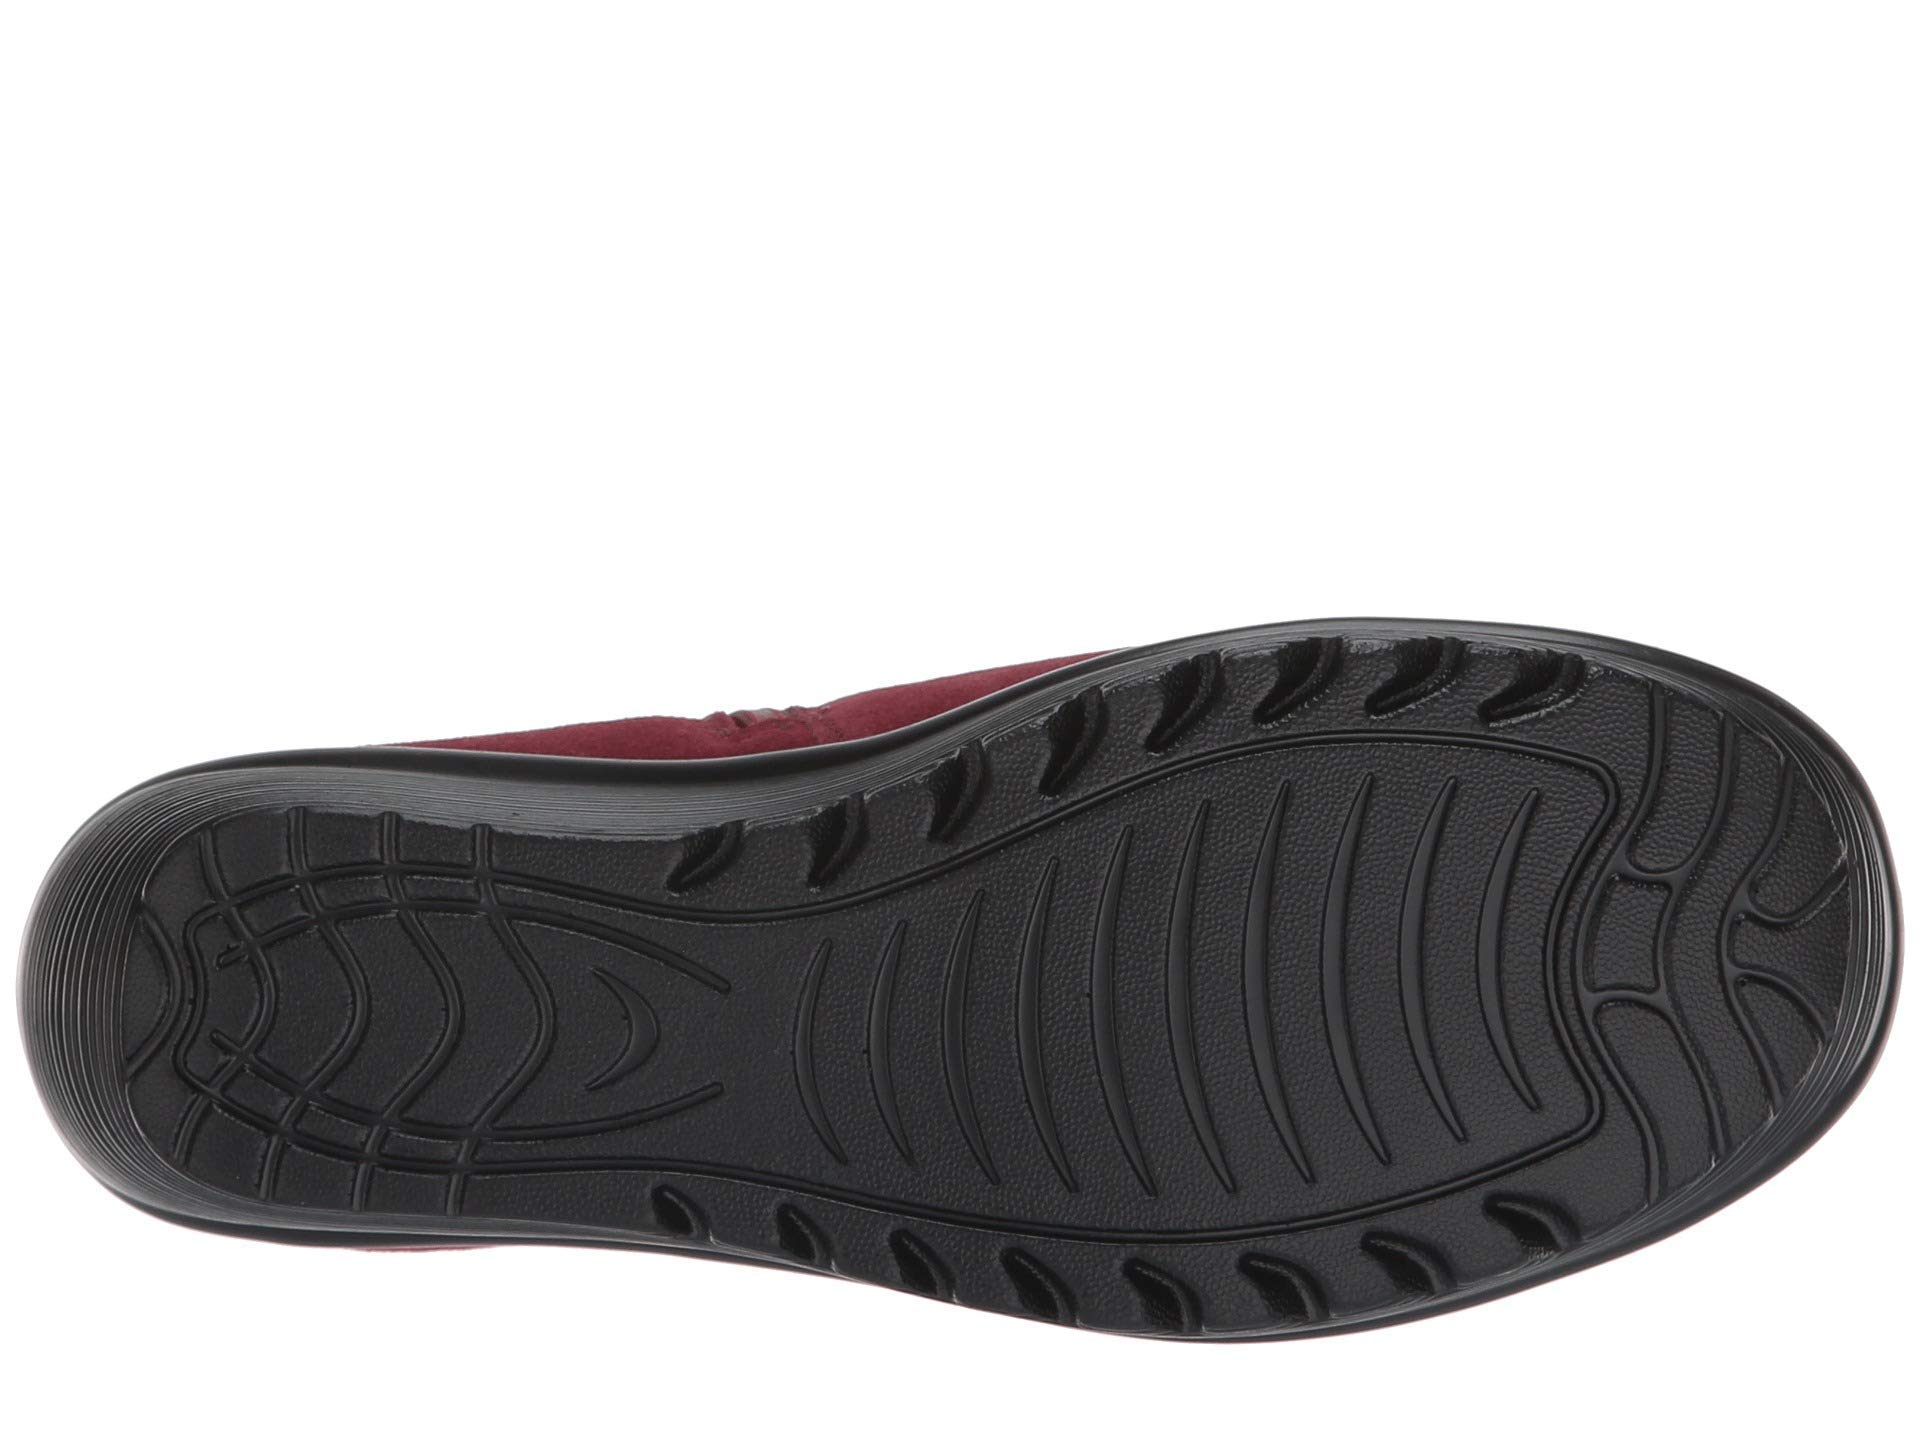chevron: (215, 873, 695, 1156), (1518, 818, 1754, 1066)
line: (215, 873, 695, 1156), (1191, 806, 1504, 1083), (801, 923, 1110, 1189)
quad: (215, 873, 695, 1156), (1518, 818, 1754, 1066)
